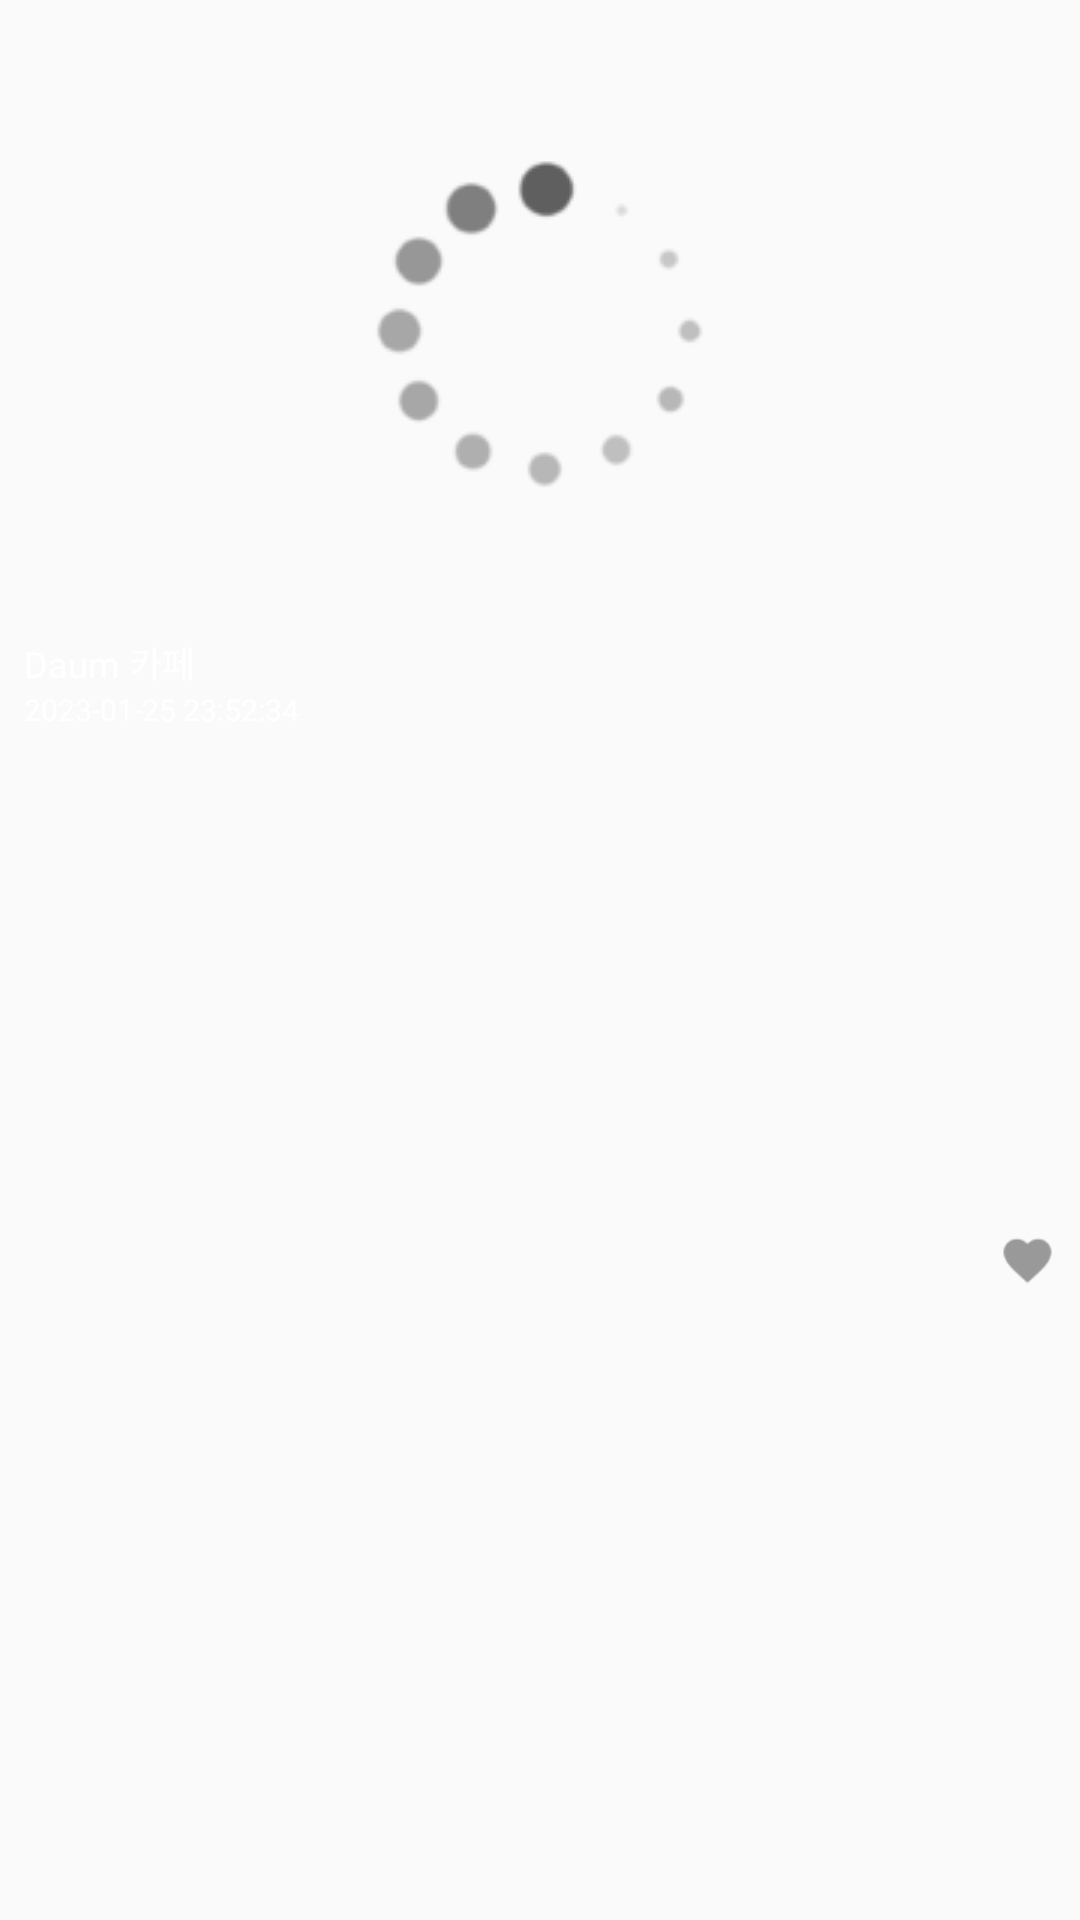

Icon bounding boxes for this 1080x1920 phone screenshot, format (x1,y1,x2,y2):
heart: (1003,1239,1052,1283)
loading: (378,161,701,486)
